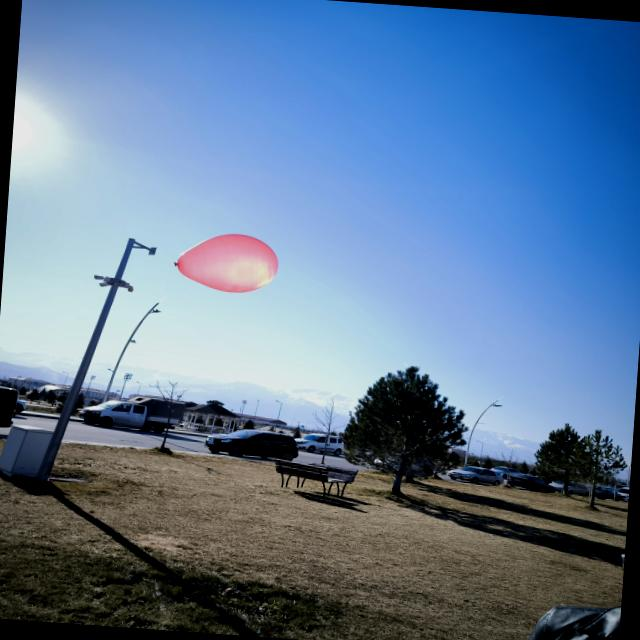balloon: (175, 234, 278, 292)
